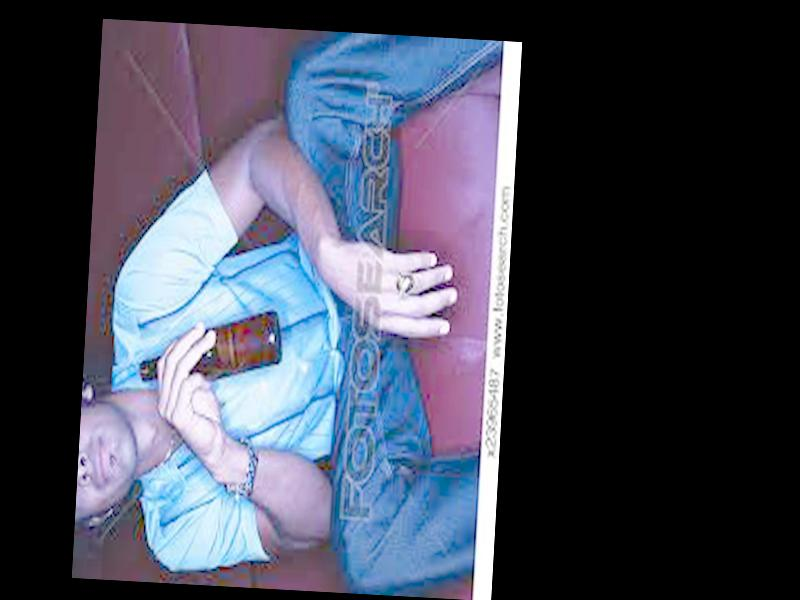Beer: (138, 301, 283, 390)
